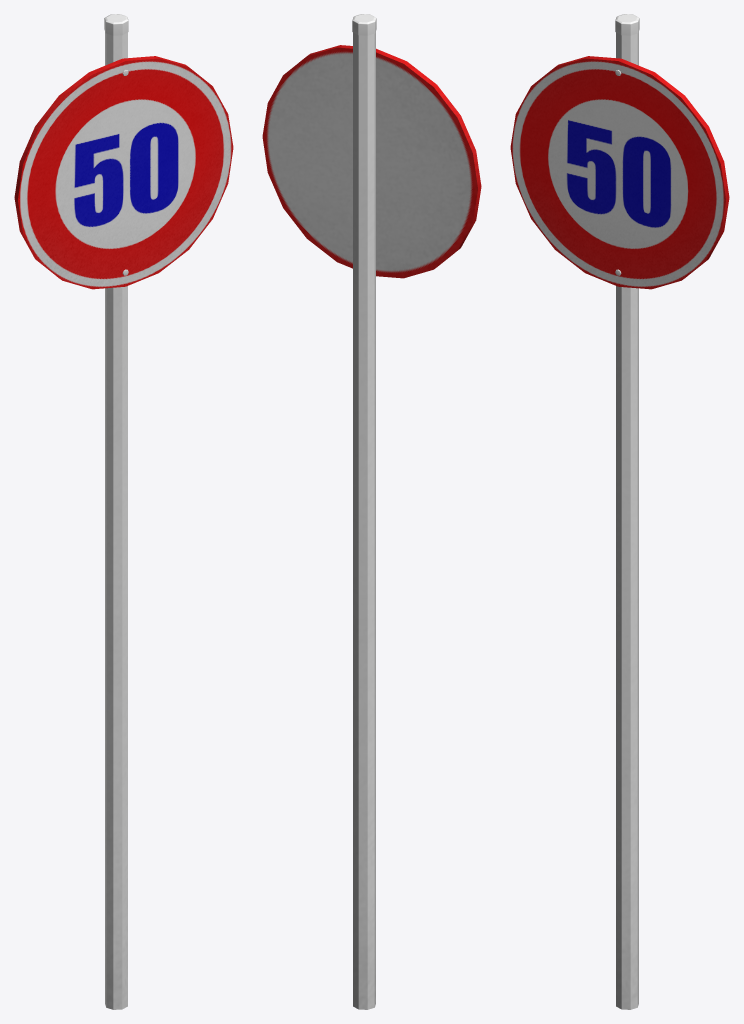
File: sing_seigen50.fbx
The picture shows the model from 3 angles, left to right: view 1: azimuth 30°, elevation 25°; view 2: azimuth 150°, elevation 25°; view 3: azimuth 330°, elevation 25°; orthographic projection.
Parts seen in each view (by area): view 1: polySurface16, polySurface15; view 2: polySurface16, polySurface15; view 3: polySurface16, polySurface15.
Part boxes in pixels (box(x1,y1,x2,y2)): polySurface16: box(14, 56, 233, 289); polySurface15: box(104, 14, 128, 1009); polySurface16: box(262, 45, 481, 278); polySurface15: box(352, 14, 376, 1009); polySurface16: box(510, 56, 729, 289); polySurface15: box(615, 14, 639, 1009).
Size of the model in its own units: 0.6062 by 2.65 by 0.0786.
